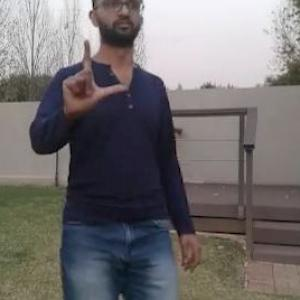land_hand: (58, 36, 127, 116)
